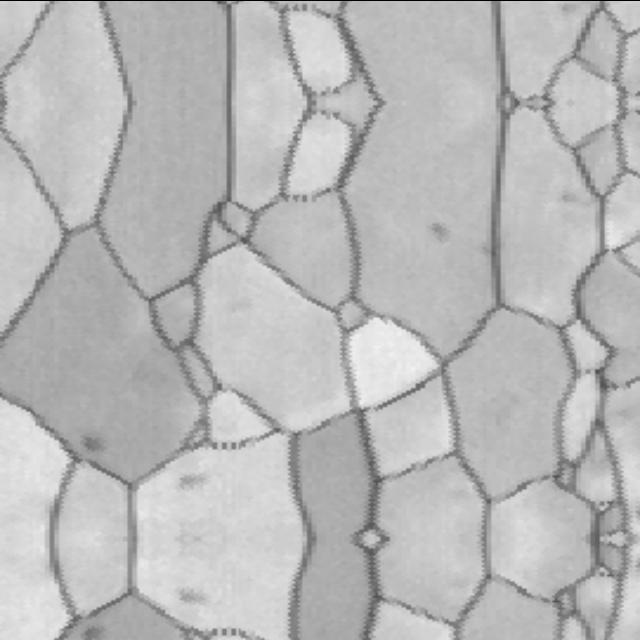good_void: (429, 217, 454, 247), (173, 473, 205, 494), (173, 584, 205, 605), (82, 428, 103, 454), (83, 624, 103, 640)
